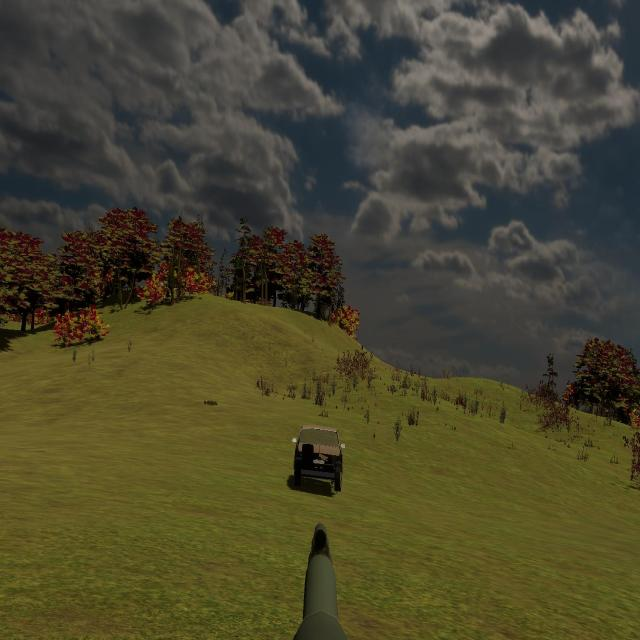car: (287, 425, 345, 501)
turret: (294, 528, 351, 639)
